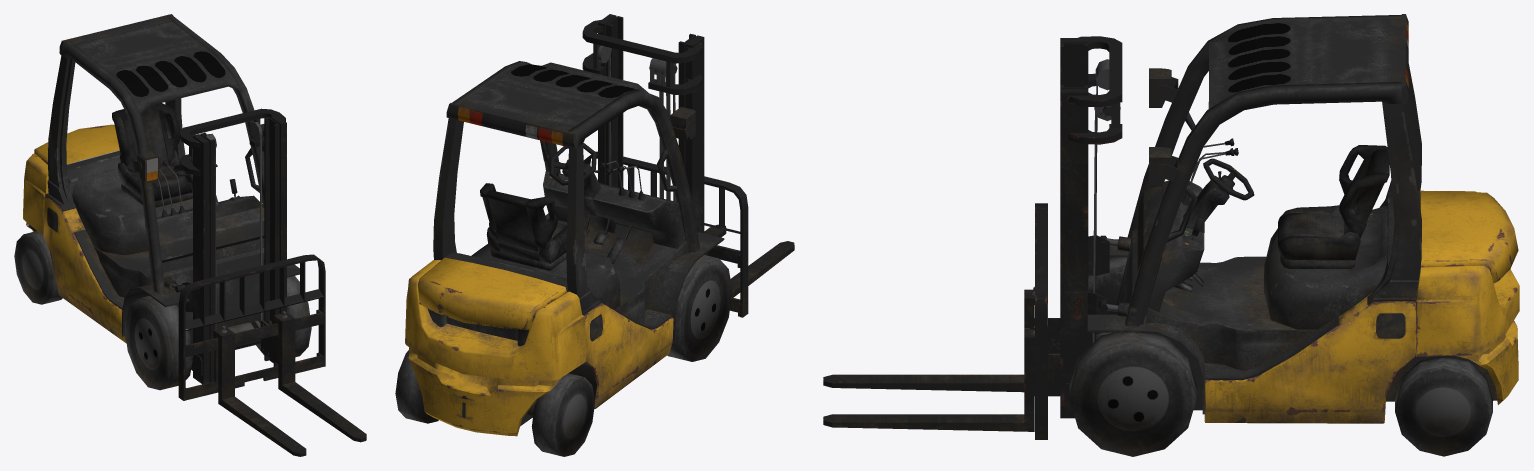
File: FolkLift.fbx
The picture shows the model from 3 angles, left to right: view 1: azimuth 30°, elevation 25°; view 2: azimuth 150°, elevation 25°; view 3: azimuth 270°, elevation 25°; orthographic projection. The views are drawn at different scales.
Parts seen in each view (by area): view 1: Loader_car; view 2: Loader_car; view 3: Loader_car.
Part boxes in pixels (x1,y1,x2,y2): Loader_car: (14,14,366,456); Loader_car: (395,14,794,456); Loader_car: (823,14,1519,456).
Size of the model in its own units: 1817 by 3281 by 5737.
